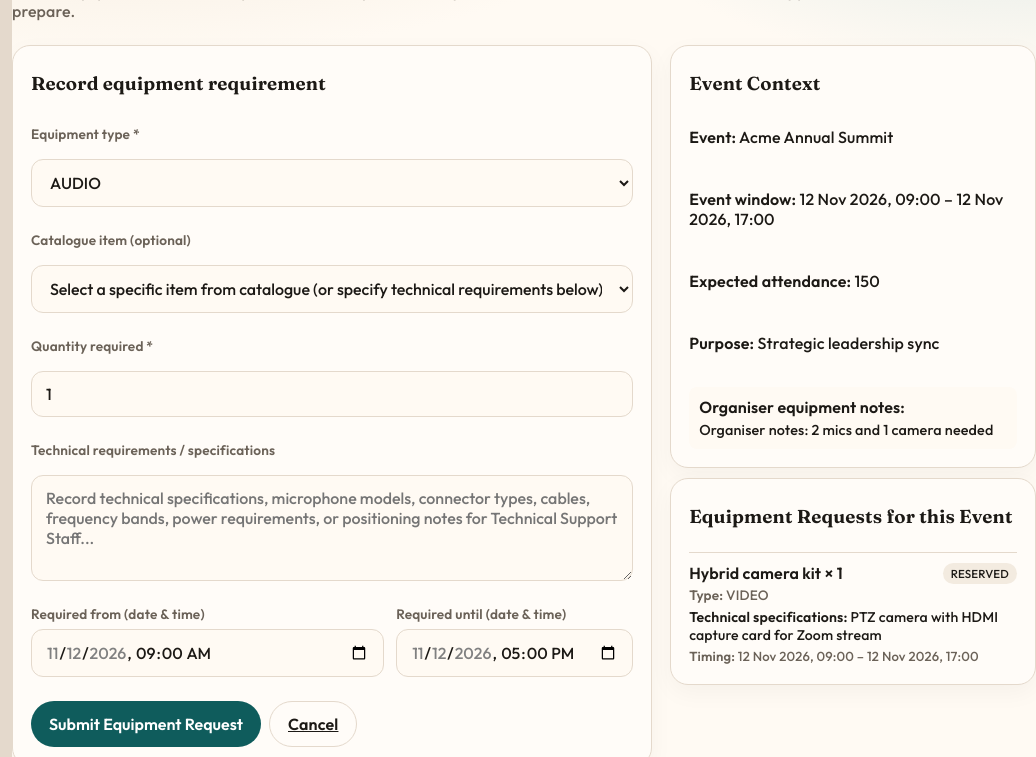
SCRUM-47 EquipmentRequest page › AC4: validates start time is before end time
(page scrolled)
Step 1. Replace the text in the field labelled "Required from (date & time)" with "2026-11-12T18:00" → {"x": 208, "y": 653}, box [31, 629, 384, 677]
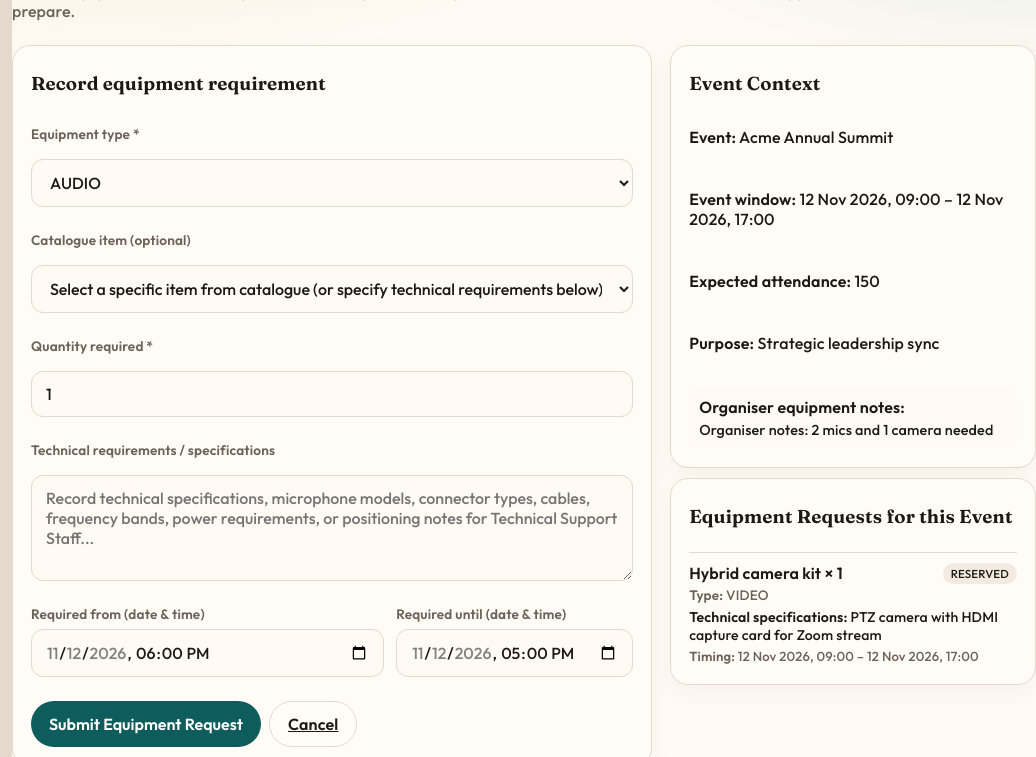
Step 2. Replace the text in the field labelled "Required until (date & time)" with "2026-11-12T09:00" → {"x": 515, "y": 653}, box [396, 629, 633, 677]
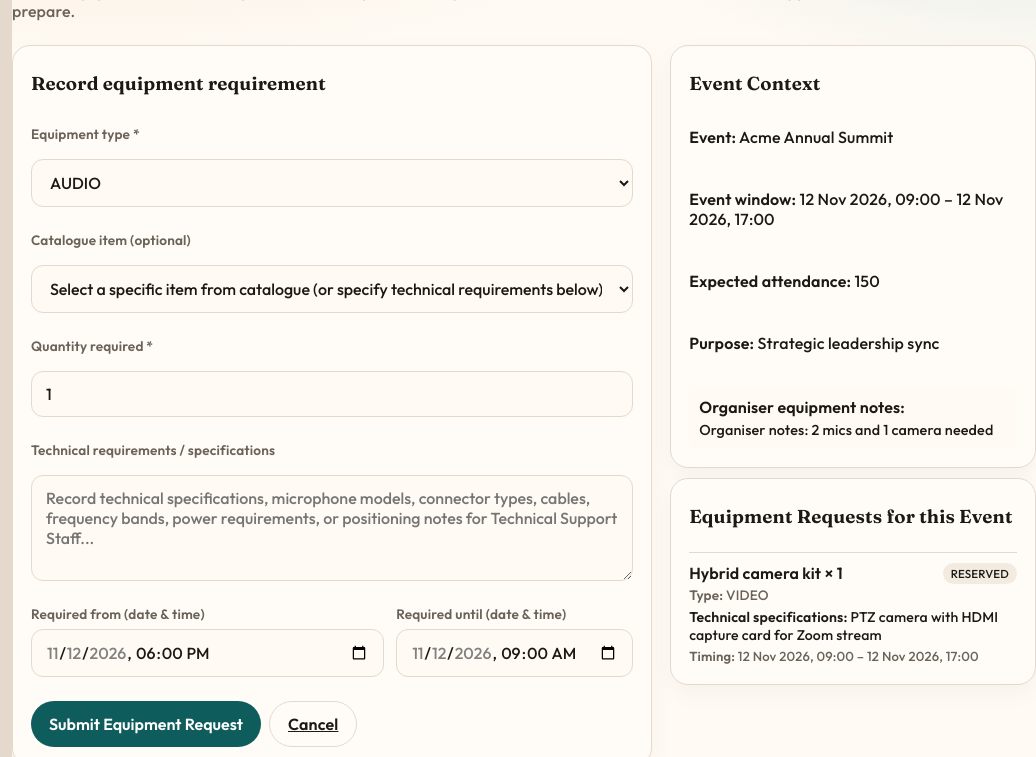
Step 3. Click the button "Submit Equipment Request" → {"x": 146, "y": 724}, box [31, 701, 261, 747]
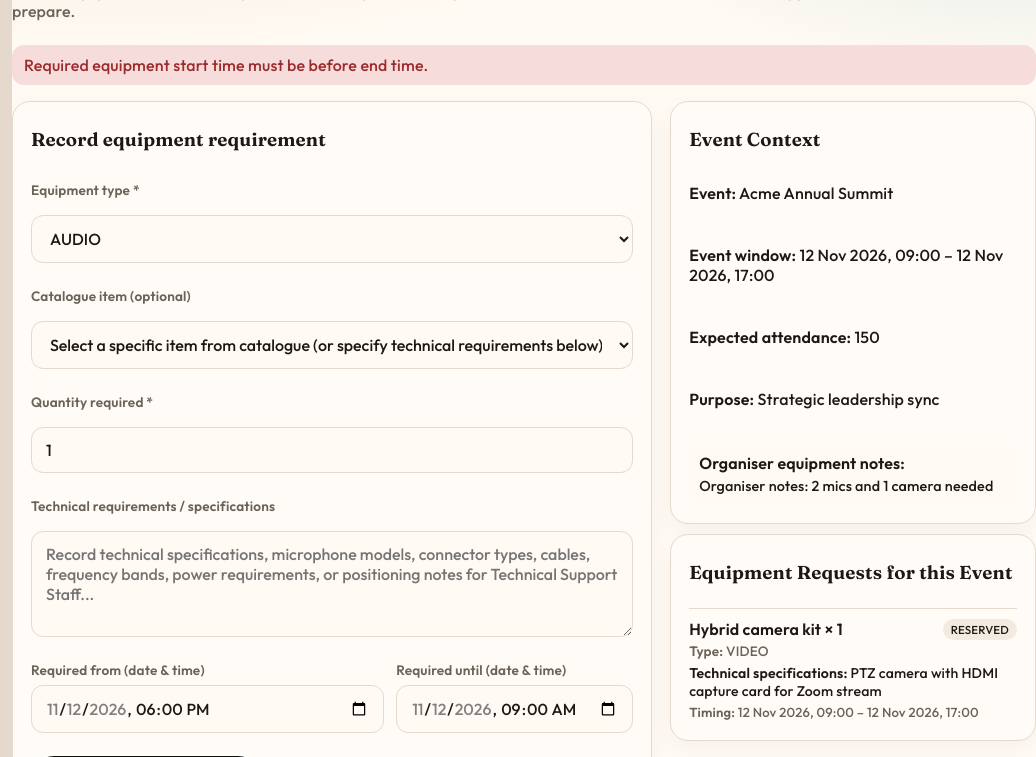
Result: the text "Required equipment start time must be before end time." is shown at [12, 45, 1035, 85]
